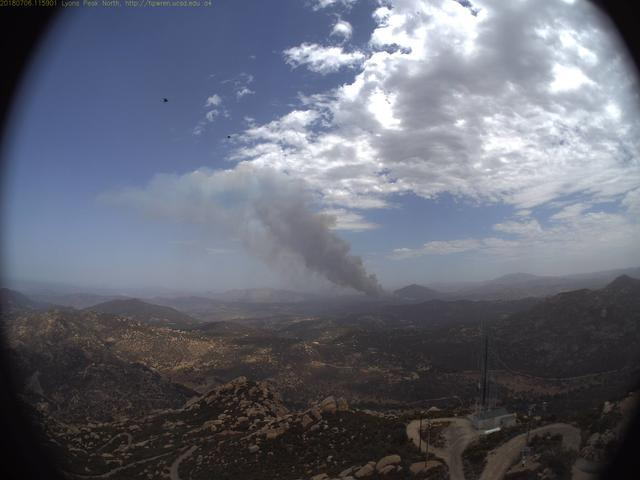smoke: (91, 159, 419, 311)
